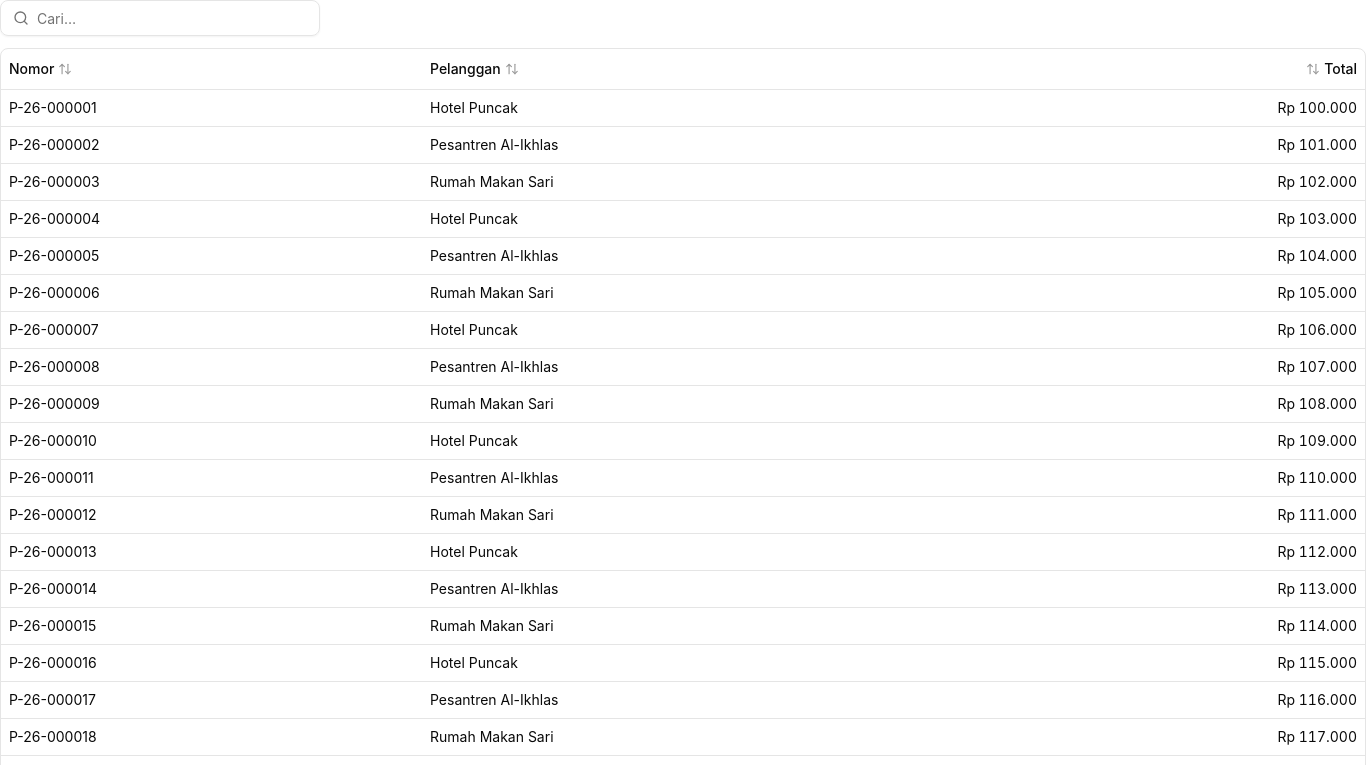
Test: DataTable (TanStack v9) › filter teks global & keadaan tidak cocok
This screenshot has width=1366, height=765.
Type "pesantren" into the search field named "Cari di tabel" at (174, 18), box [29,0,319,36]
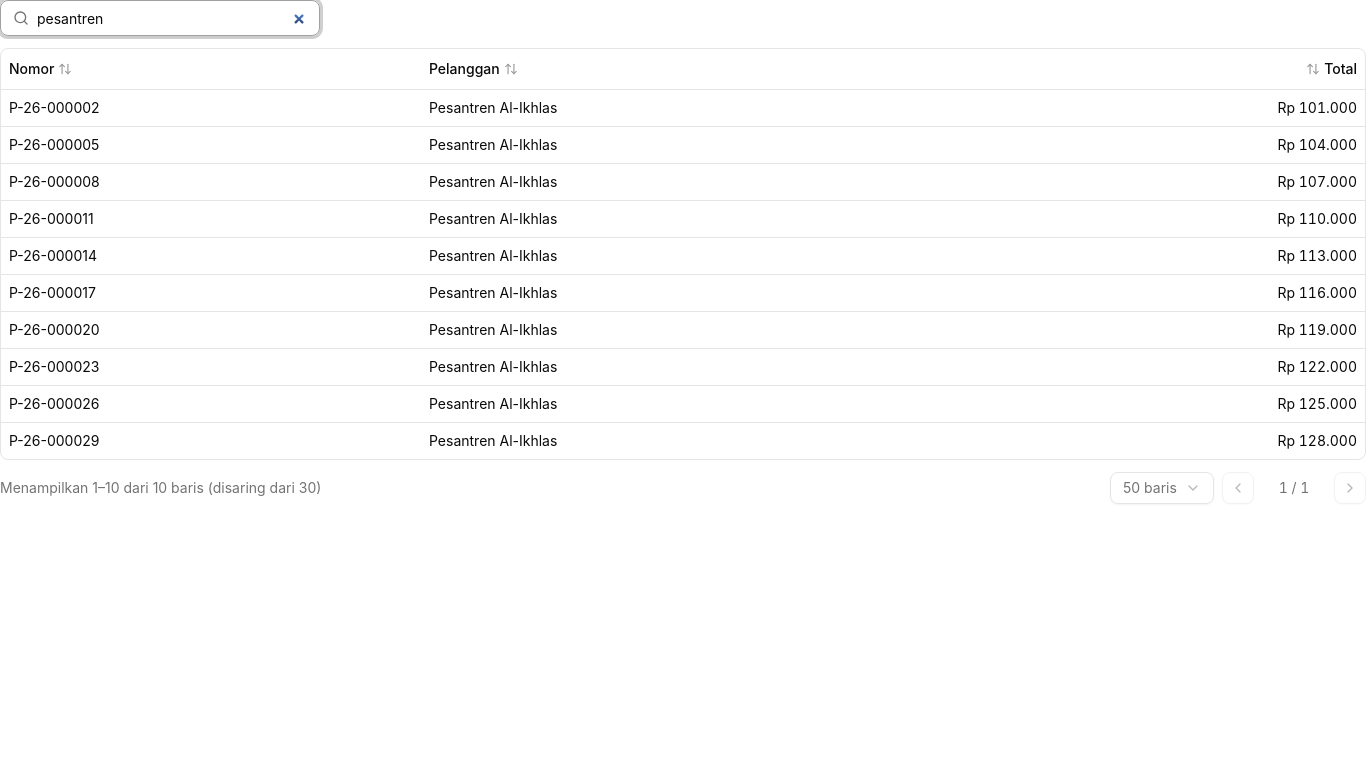
expect the text "Menampilkan 1–10 dari 10 baris (disaring dari 30)" is shown: met, box [0,478,321,498]
Replace the text in the search field named "Cari di tabel" with "zzz" at (174, 18), box [29,0,319,36]
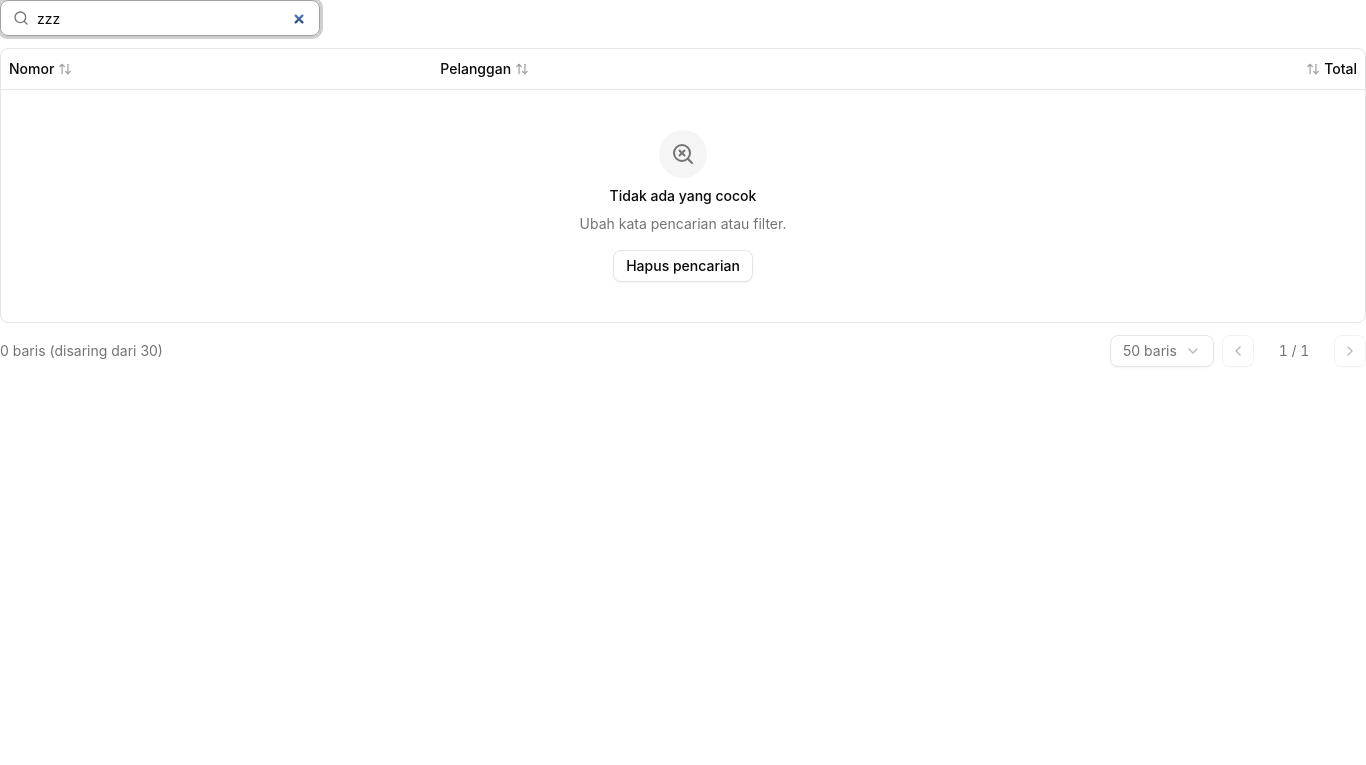
expect the text "Tidak ada yang cocok" is shown: met, box [610,186,756,206]
